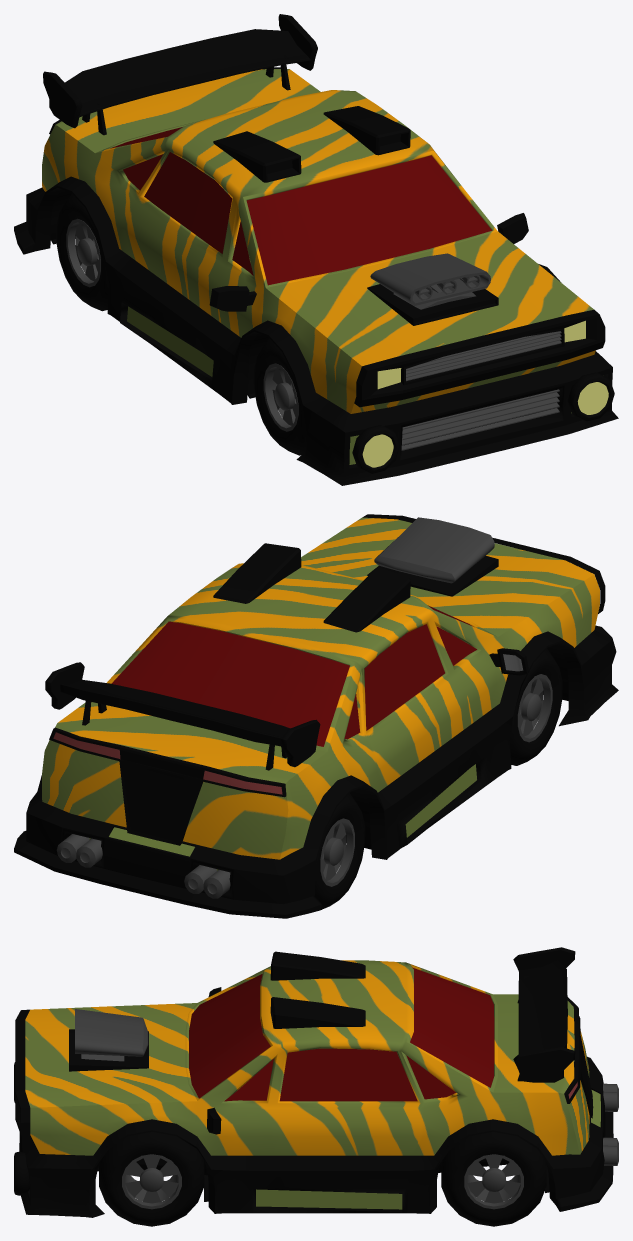
Rendered from Muscle Evolution4 Black ZebraOrangeKaki DarkRed DarkGrey.gltf.
The picture shows the model from 3 angles, top to bottom: view 1: azimuth 30°, elevation 25°; view 2: azimuth 150°, elevation 25°; view 3: azimuth 270°, elevation 25°; orthographic projection. The views are drawn at different scales.
Parts seen in each view (by area): view 1: evo4_sillPartR_f1_dupl, evo4_evo4_polySurface1_f1_dupl, evo4_frontGlass_f1_dupl, evo4_Spoiler4_f1_dupl, evo4_frontBlockGrid_f1_dupl, evo4_glasseBigR_f1_dupl, evo4_engine_f1_dupl, evo4_front_down_grid_f1_dupl, evo4_airtrap_r_f1_dupl, evo4_airtrap_l_f1_dupl, evo4_front_up_grid_f1_dupl, evo4_tire_rf_f1_dupl (+11 smaller); view 2: evo4_sillPartR_f1_dupl, evo4_evo4_polySurface1_f1_dupl, evo4_BackGlassGlass_f1_dupl, evo4_Spoiler4_f1_dupl, evo4_blockBackLights_f1_dupl, evo4_engine_f1_dupl, evo4_glasseBigR_f1_dupl, evo4_airtrap_r_f1_dupl, evo4_airtrap_l_f1_dupl, evo4_tire_rf2_f1_dupl, evo4_tire_rf_f1_dupl, evo4_rim_A_rf_f1_dupl (+9 smaller); view 3: evo4_sillPartR_f1_dupl, evo4_evo4_polySurface1_f1_dupl, evo4_BackGlassGlass_f1_dupl, evo4_Spoiler4_f1_dupl, evo4_glasseBigL_f1_dupl, evo4_frontGlass_f1_dupl, evo4_tire_lf_f1_dupl, evo4_tire_lb_f1_dupl, evo4_engine_f1_dupl, evo4_rim_A_lf_f1_dupl, evo4_rim_A_lb_f1_dupl, evo4_airtrap_l_f1_dupl (+9 smaller).
Boxes of the visible parts, box(x1,y1,x2,y2) form: evo4_sillPartR_f1_dupl: box(42, 69, 595, 464); evo4_evo4_polySurface1_f1_dupl: box(14, 176, 618, 485); evo4_frontGlass_f1_dupl: box(246, 155, 491, 285); evo4_Spoiler4_f1_dupl: box(43, 14, 317, 135); evo4_frontBlockGrid_f1_dupl: box(354, 309, 605, 407); evo4_glasseBigR_f1_dupl: box(144, 152, 232, 253); evo4_engine_f1_dupl: box(370, 253, 490, 309); evo4_front_down_grid_f1_dupl: box(401, 389, 559, 450); evo4_airtrap_r_f1_dupl: box(213, 131, 301, 182); evo4_airtrap_l_f1_dupl: box(323, 106, 410, 155); evo4_front_up_grid_f1_dupl: box(406, 331, 561, 381); evo4_tire_rf_f1_dupl: box(56, 194, 109, 311); evo4_sillPartR_f1_dupl: box(42, 517, 599, 870); evo4_evo4_polySurface1_f1_dupl: box(14, 630, 618, 918); evo4_BackGlassGlass_f1_dupl: box(111, 621, 349, 746); evo4_Spoiler4_f1_dupl: box(45, 662, 320, 770); evo4_blockBackLights_f1_dupl: box(49, 727, 286, 845); evo4_engine_f1_dupl: box(374, 517, 494, 583); evo4_glasseBigR_f1_dupl: box(364, 624, 444, 730); evo4_airtrap_r_f1_dupl: box(323, 567, 410, 632); evo4_airtrap_l_f1_dupl: box(213, 543, 301, 603); evo4_tire_rf2_f1_dupl: box(509, 648, 562, 765); evo4_tire_rf_f1_dupl: box(315, 793, 365, 909); evo4_rim_A_rf_f1_dupl: box(517, 674, 552, 742); evo4_sillPartR_f1_dupl: box(25, 960, 600, 1209); evo4_evo4_polySurface1_f1_dupl: box(19, 1056, 613, 1217); evo4_BackGlassGlass_f1_dupl: box(410, 967, 494, 1087); evo4_Spoiler4_f1_dupl: box(513, 947, 575, 1082); evo4_glasseBigL_f1_dupl: box(279, 1048, 417, 1101); evo4_frontGlass_f1_dupl: box(189, 974, 270, 1098); evo4_tire_lf_f1_dupl: box(99, 1132, 204, 1226); evo4_tire_lb_f1_dupl: box(441, 1132, 546, 1226); evo4_engine_f1_dupl: box(75, 1009, 148, 1061); evo4_rim_A_lf_f1_dupl: box(122, 1154, 181, 1209); evo4_rim_A_lb_f1_dupl: box(464, 1154, 523, 1209); evo4_airtrap_l_f1_dupl: box(270, 997, 365, 1028).
Bounding box in the file's own units: 177 × 120 × 337.
8 materials, 1 textured.
